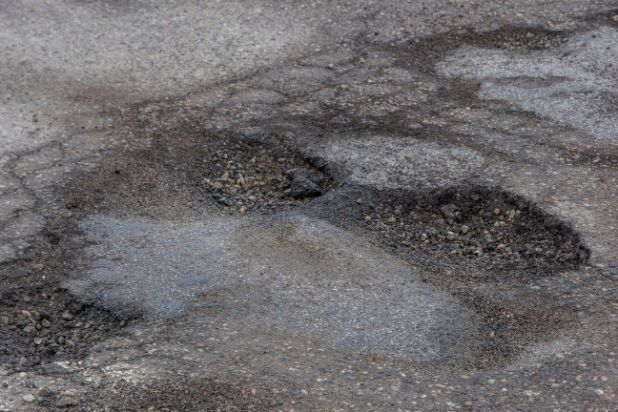pothole: (332, 178, 593, 291), (47, 122, 346, 220), (0, 279, 147, 371)
